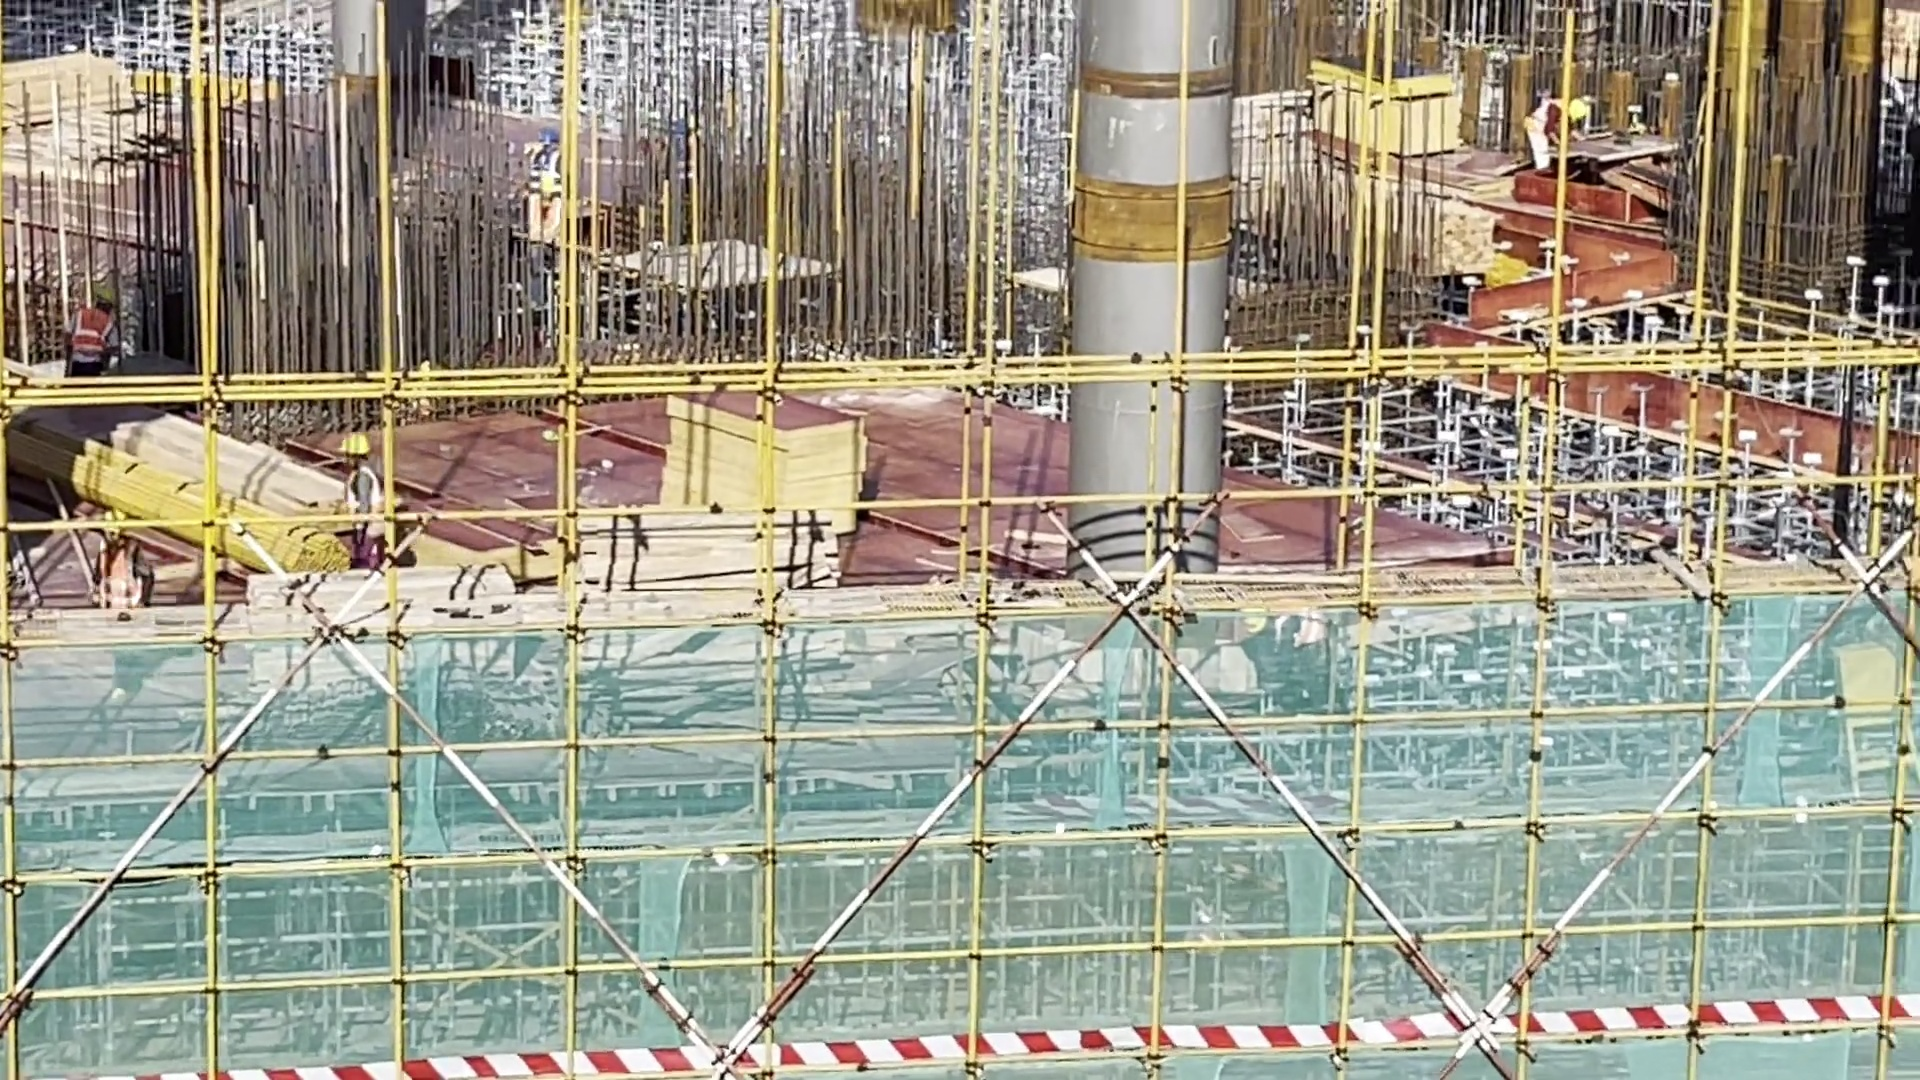helmet: (336, 428, 376, 461), (532, 166, 561, 193), (98, 278, 119, 313), (1570, 90, 1590, 121), (538, 125, 560, 146)
person: (332, 433, 396, 562), (44, 279, 126, 372), (507, 161, 573, 265), (1524, 82, 1572, 172), (523, 126, 578, 185)
vest: (88, 545, 136, 602), (61, 303, 107, 356), (340, 461, 381, 521), (526, 191, 561, 239), (1526, 96, 1562, 132)
